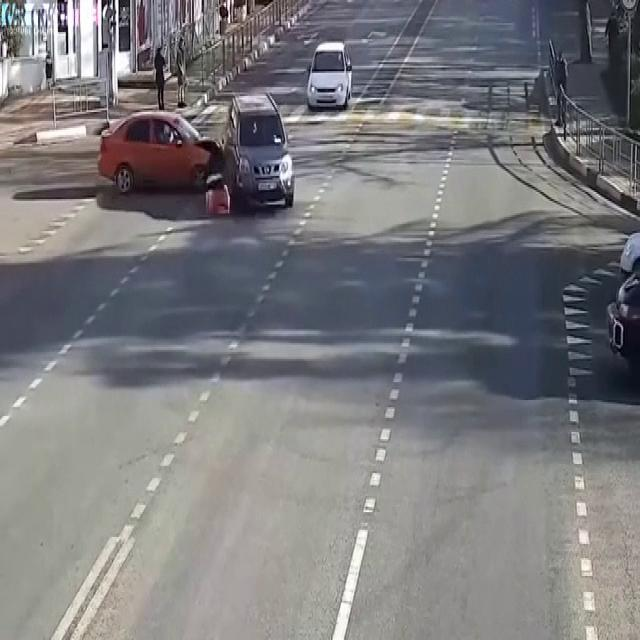accident: (154, 89, 302, 237)
